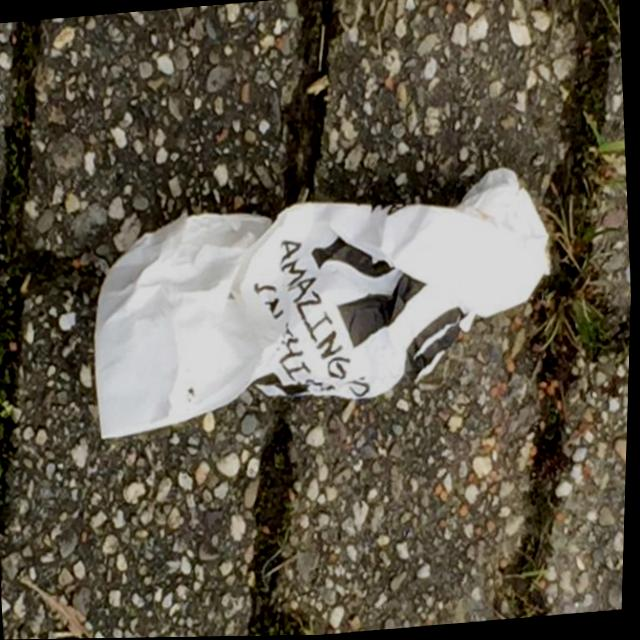Paper: (83, 162, 567, 440)
